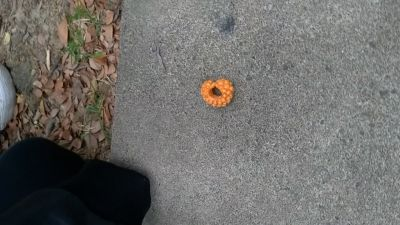eggs: (199, 79, 235, 109)
